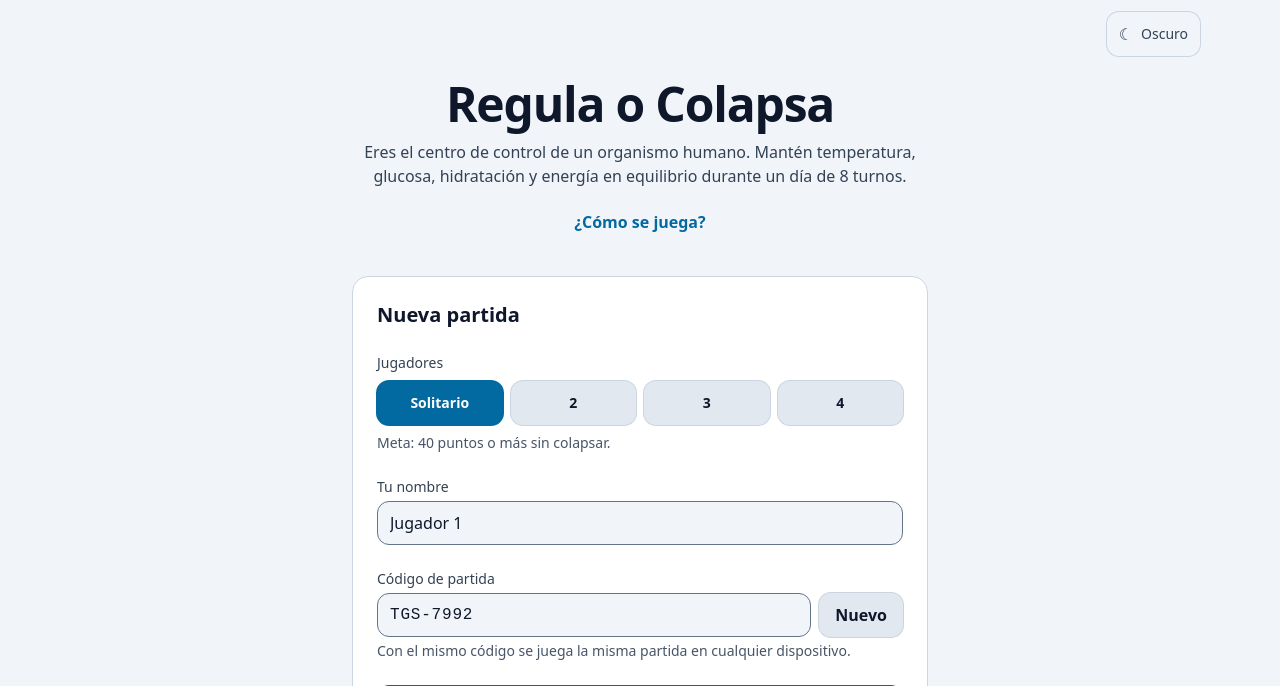
Test case: InicioPage › muestra el título y crea una partida en solitario
Expected: the heading "Regula o Colapsa" is shown, [446, 71, 834, 136]
Replace the text in the field labelled "Código de partida" with "0427" at (594, 615), box [377, 593, 811, 637]
(page scrolled)
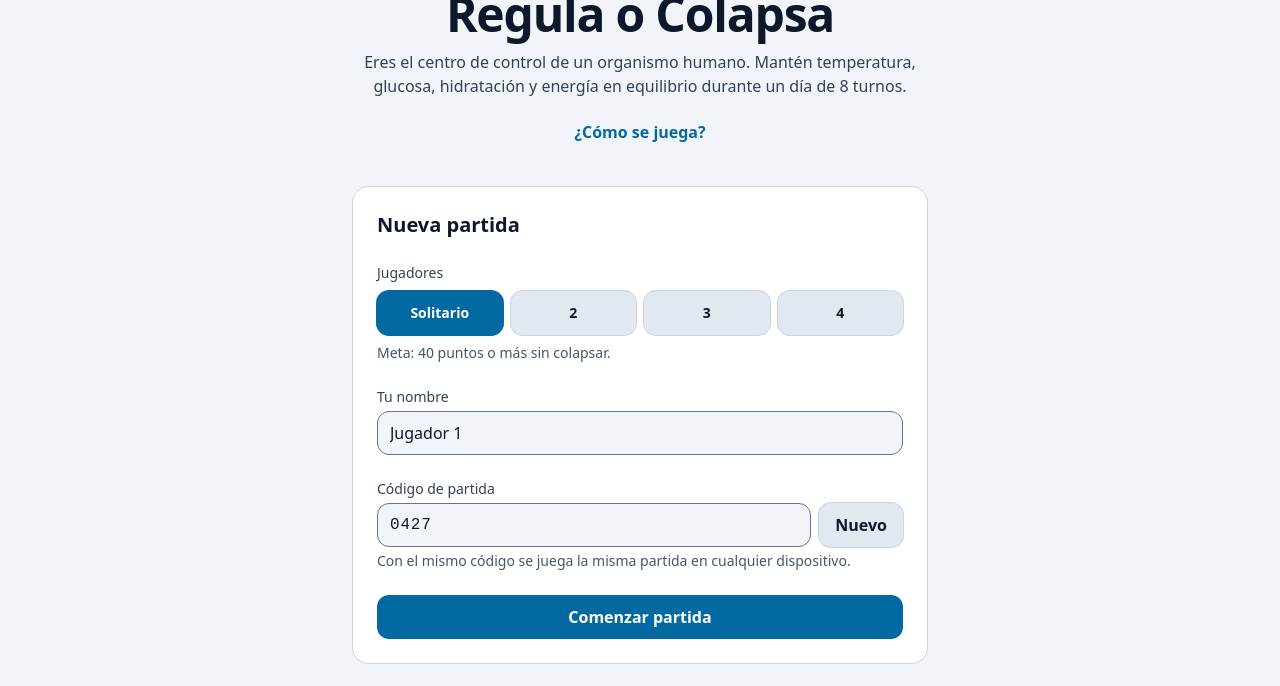
Click the button "Comenzar partida" at (640, 617), box [377, 595, 903, 639]
(page scrolled)
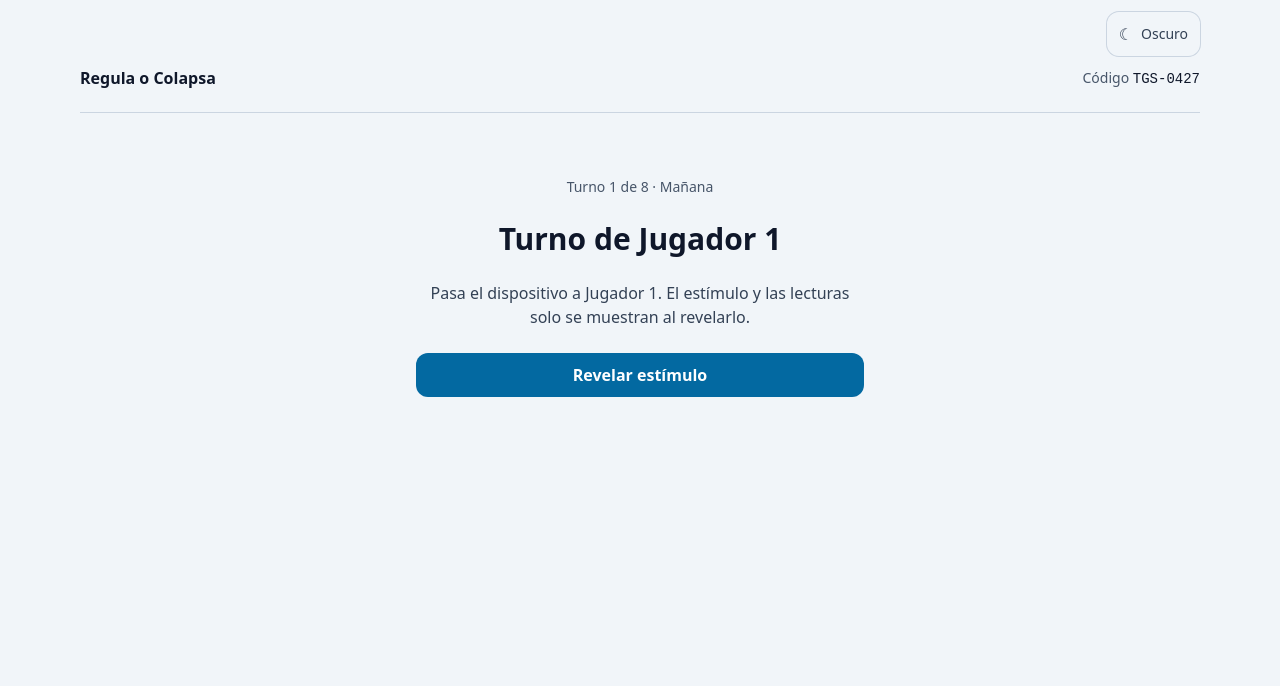
Now the text "TGS-0427" is shown, box [1133, 70, 1200, 86]
Now the heading "Turno de Jugador 1" is shown, box [499, 221, 781, 257]
